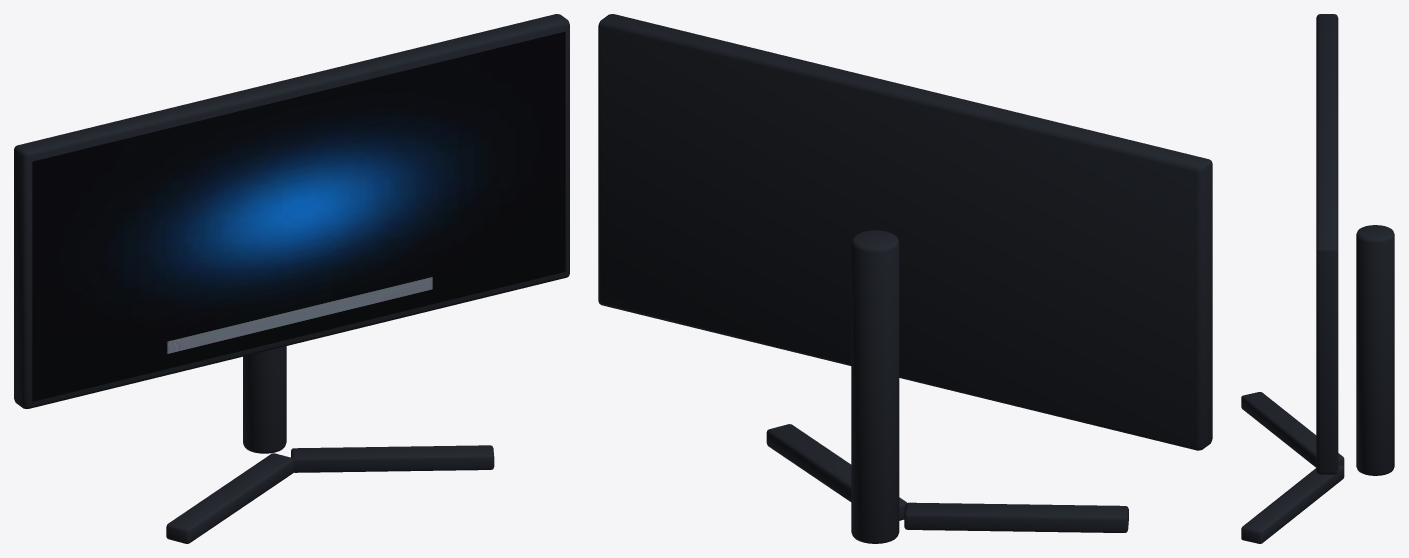
Rendered from mon_curved_34-f2b779ed3d77.glb.
The picture shows the model from 3 angles, left to right: view 1: azimuth 30°, elevation 25°; view 2: azimuth 150°, elevation 25°; view 3: azimuth 270°, elevation 25°; orthographic projection. The views are drawn at different scales.
Parts seen in each view (by area): view 1: Screen_Surface, Mesh_Matte_Carbon; view 2: Mesh_Matte_Carbon; view 3: Mesh_Matte_Carbon.
Boxes of the visible parts, x1=… form: Screen_Surface: x1=32, y1=31, x2=565, y2=401; Mesh_Matte_Carbon: x1=14, y1=14, x2=569, y2=543; Mesh_Matte_Carbon: x1=598, y1=14, x2=1212, y2=543; Mesh_Matte_Carbon: x1=1241, y1=14, x2=1394, y2=543.
Bounding box in the file's own units: 0.81 × 0.5515 × 0.2229.
2 materials, 1 textured.
